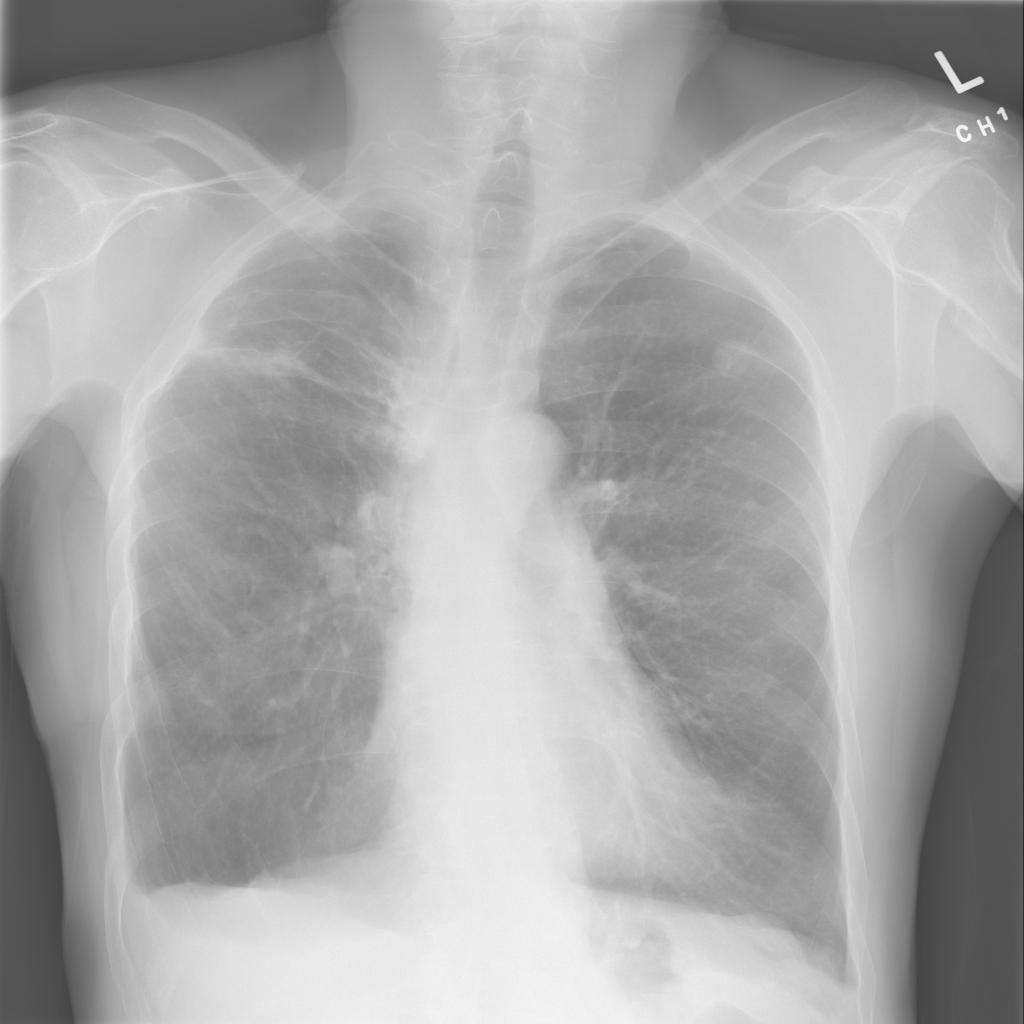Nodule: (230, 93, 275, 111)
